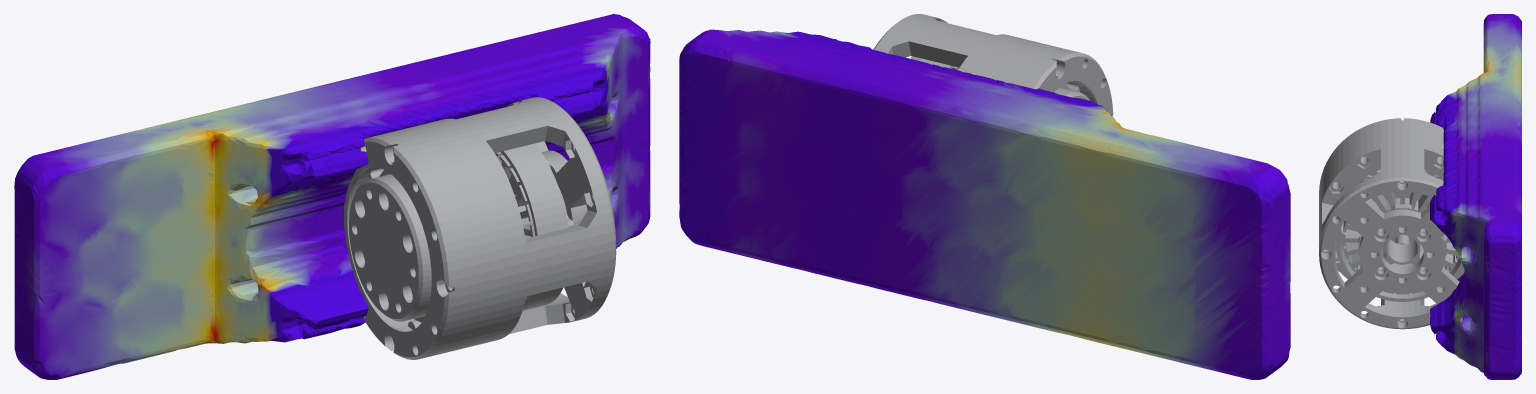
File: leg_left_ankle_roll_opt.glb
3 views of the same model, side by side, from view 1: azimuth 30°, elevation 25°; view 2: azimuth 150°, elevation 25°; view 3: azimuth 270°, elevation 25° (orthographic). The views are drawn at different scales.
Visible parts, largest first — view 1: leg_left_ankle_roll_visual.stl; view 2: leg_left_ankle_roll_visual.stl; view 3: leg_left_ankle_roll_visual.stl.
Boxes of the visible parts, x1=… form: leg_left_ankle_roll_visual.stl: x1=14, y1=14, x2=650, y2=379; leg_left_ankle_roll_visual.stl: x1=679, y1=14, x2=1290, y2=379; leg_left_ankle_roll_visual.stl: x1=1319, y1=14, x2=1521, y2=379.
Size of the model in its own units: 0.22 by 0.072 by 0.085.
